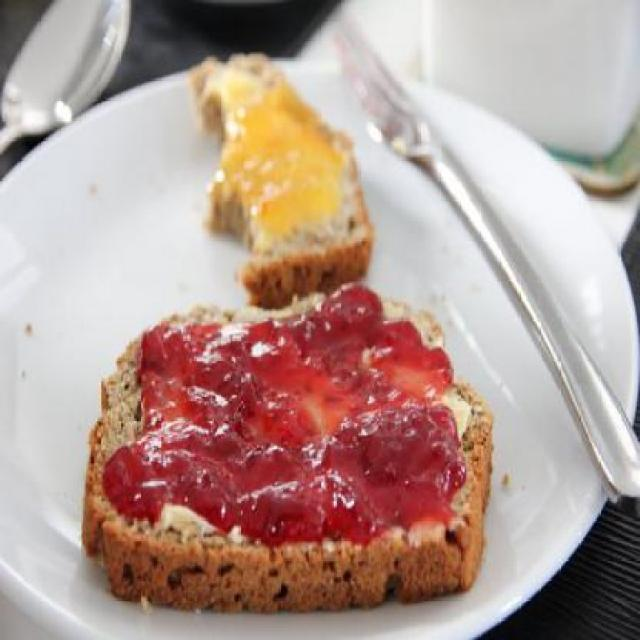Spread: (107, 287, 464, 531)
